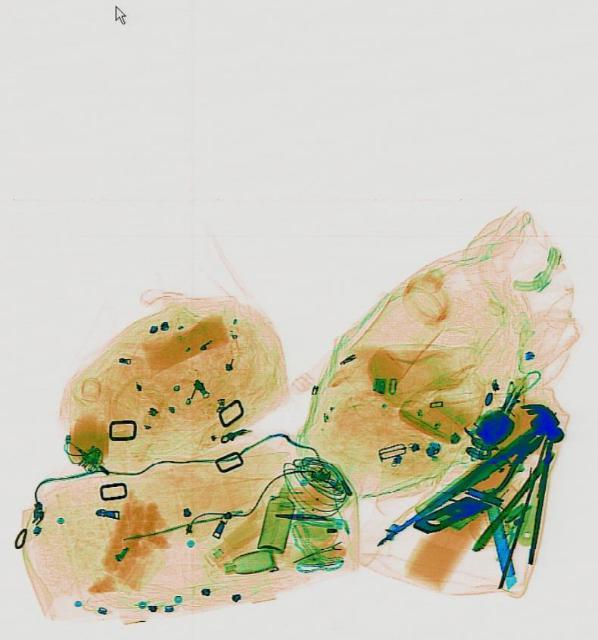Pliers: (443, 416, 552, 516)
